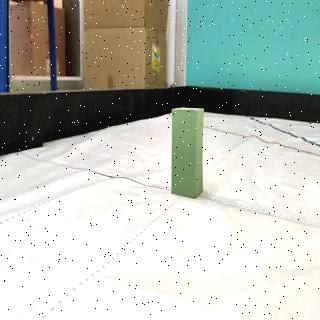greenbox: (170, 107, 204, 198)
